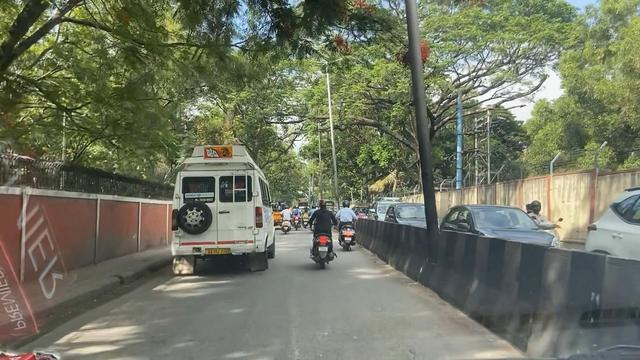HMV: (170, 147, 264, 276)
LMV: (309, 196, 333, 270), (340, 198, 354, 248)
